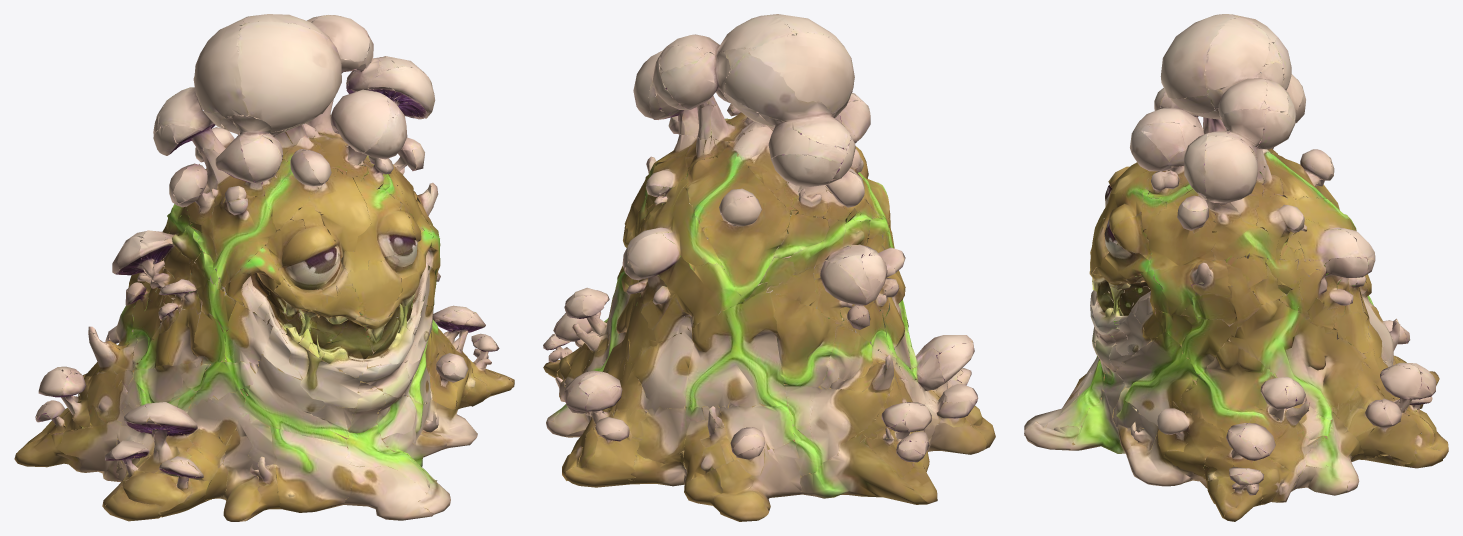
The picture shows the model from 3 angles, left to right: view 1: azimuth 30°, elevation 25°; view 2: azimuth 150°, elevation 25°; view 3: azimuth 270°, elevation 25°; orthographic projection. The views are drawn at different scales.
Parts seen in each view (by area): view 1: Mesh_0; view 2: Mesh_0; view 3: Mesh_0.
Part boxes in pixels (x1,y1,x2,y2): Mesh_0: [14, 14, 514, 521]; Mesh_0: [543, 14, 995, 521]; Mesh_0: [1024, 14, 1448, 521].
Bounding box in the file's own units: 1.87 × 1.67 × 1.65.
1 material, 1 textured.
